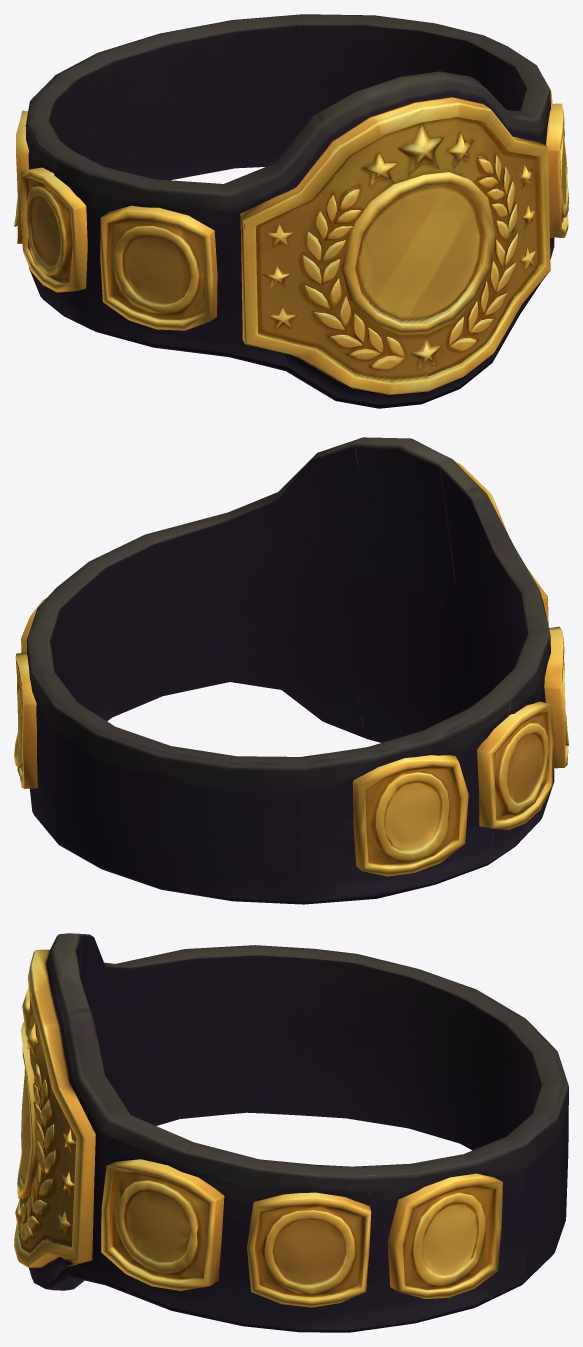
File: champion_belt.glb
The picture shows the model from 3 angles, top to bottom: view 1: azimuth 30°, elevation 25°; view 2: azimuth 150°, elevation 25°; view 3: azimuth 270°, elevation 25°; orthographic projection. The views are drawn at different scales.
Parts seen in each view (by area): view 1: geometry_0; view 2: geometry_0; view 3: geometry_0.
Boxes of the visible parts, <box> form: geometry_0: <box>14,14,568,408</box>; geometry_0: <box>14,437,568,904</box>; geometry_0: <box>14,933,568,1332</box>.
Bounding box in the file's own units: 0.9536 × 0.5898 × 0.9224.
1 material, 1 textured.
